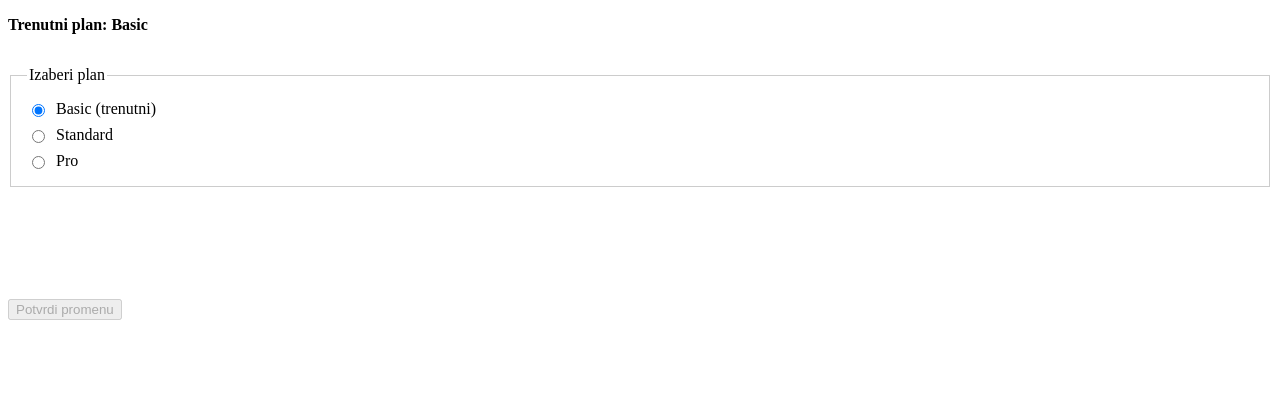
Test: PlanChangePage › confirm sends quote of selected plan and shows new plan
The image size is (1280, 393).
Check: the text "Trenutni plan: Basic" is shown, box [8,16,148,33]
Click the radio button labelled "Standard". click: (38, 136)
box: [32,130,45,143]
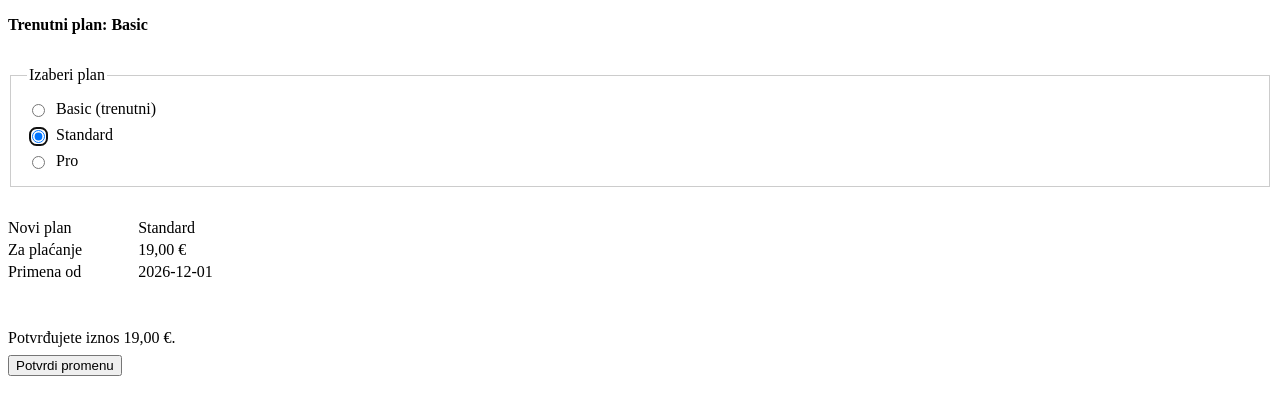
Click the button "Potvrdi promenu". click: (65, 366)
box: [8,355,122,376]
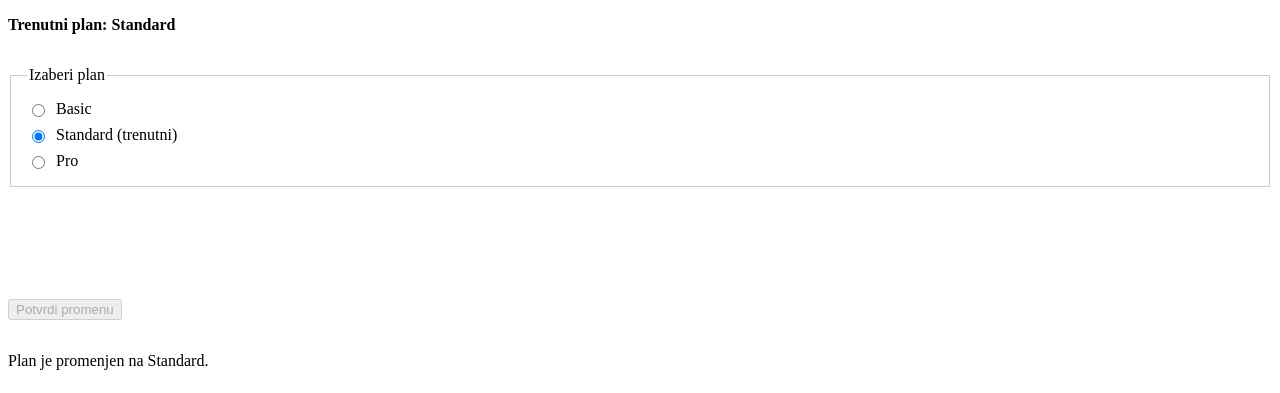
Check: the text "Plan je promenjen na Standard." is shown, box [8,352,208,369]
Check: the text "Trenutni plan: Standard" is shown, box [8,16,176,33]
